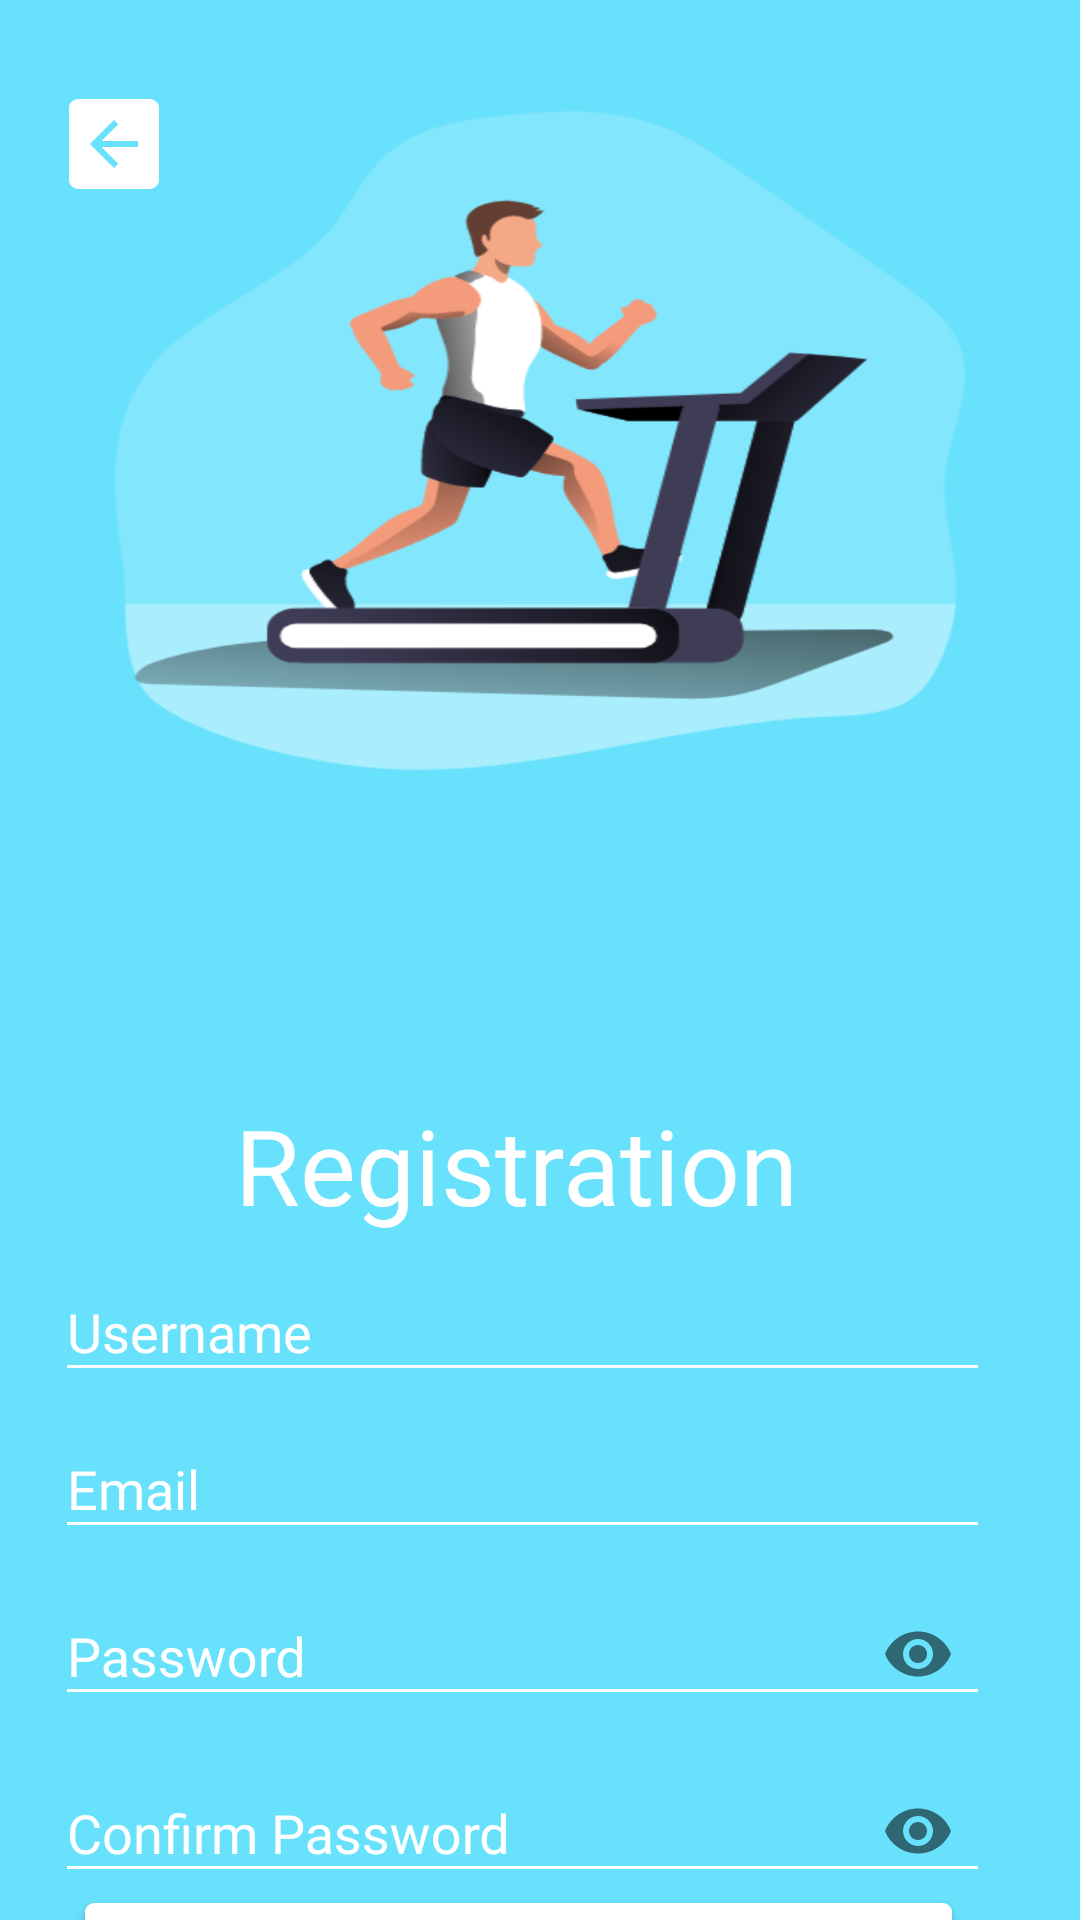

Icons on this 1080w x 1920h Android screen, each with its box as (left=x1, top=y1, right=x2, bottom=y2):
back: (left=69, top=99, right=159, bottom=189)
